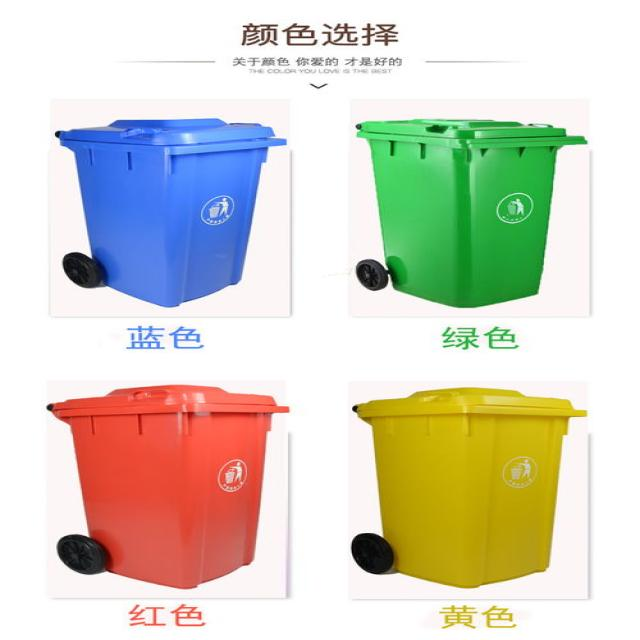garbage_bin: (44, 384, 288, 590), (350, 386, 588, 588), (53, 118, 284, 307), (356, 118, 586, 306)
